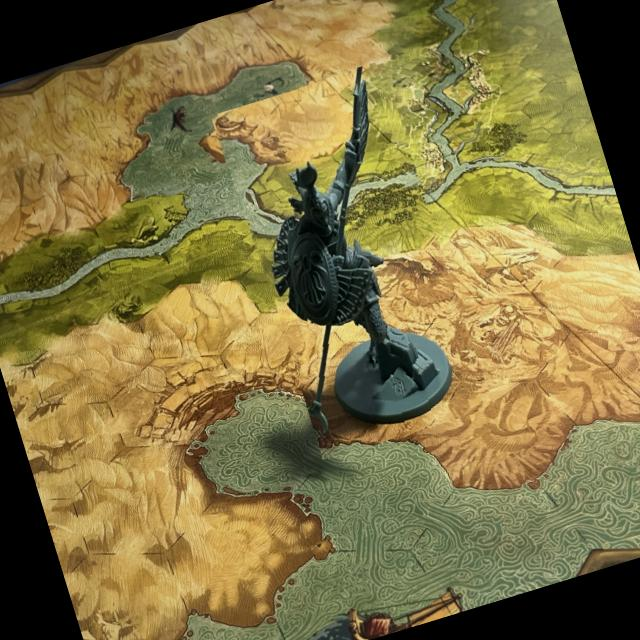isis: (213, 61, 492, 462)
